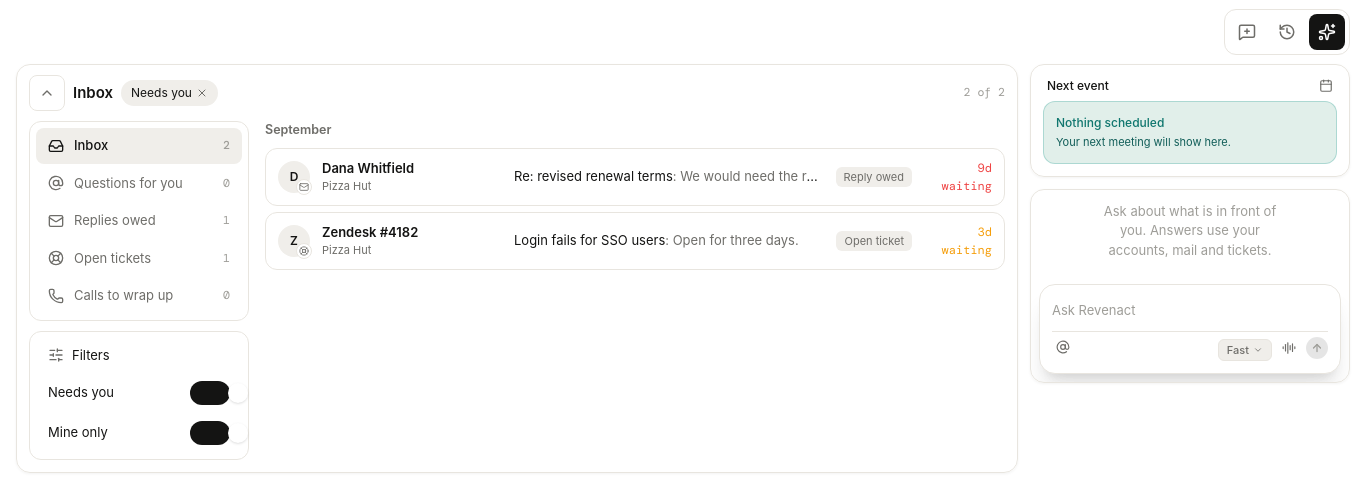
Scenario: CommunicationsPage › the Copilot rail sends a real message and can be hidden from the top bar
This screenshot has width=1366, height=490.
Type "What is waiting?" into the field with placeholder "Ask Revenact" at (1190,311), box [1052,299,1328,322]
Then press Enter
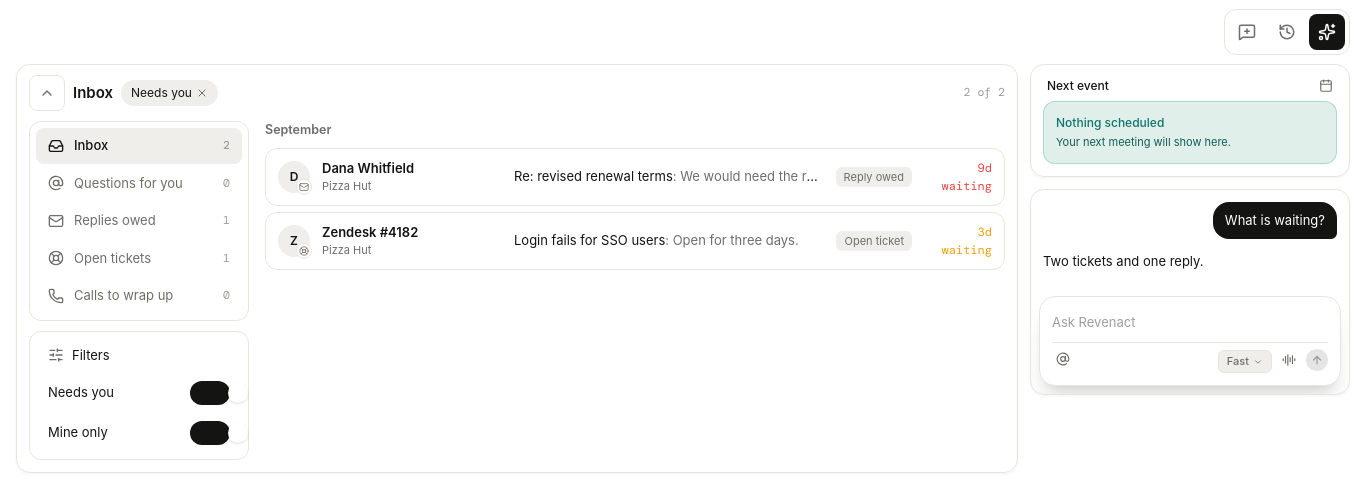
expect the text "Two tickets and one reply." is shown: met, box [1043,251,1204,272]
Click the button named "hide copilot" at (1327,32), box [1309,14,1345,50]
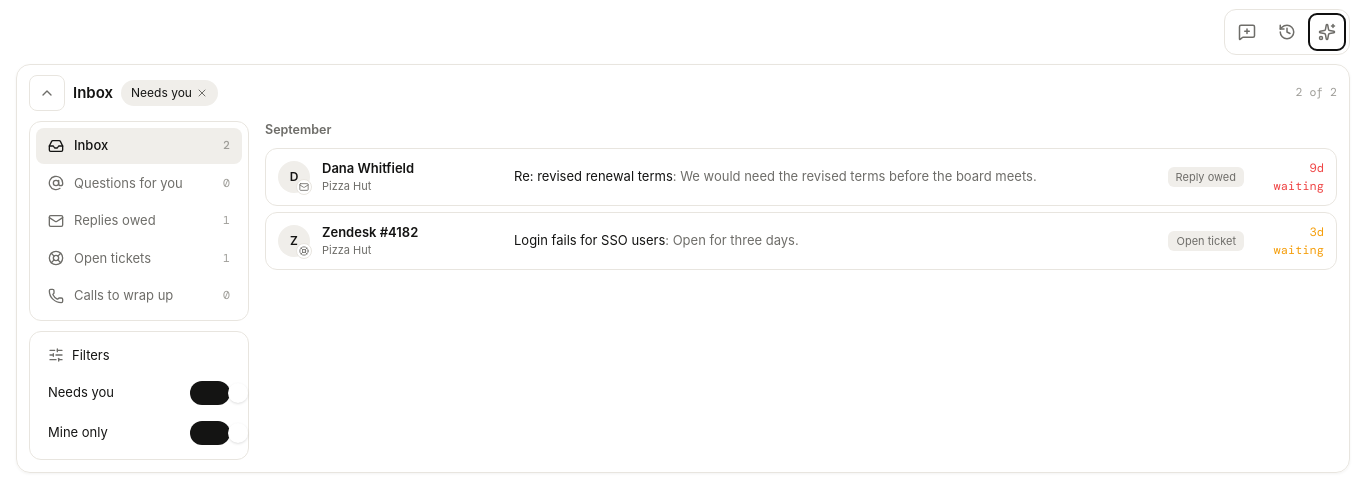
expect the element "copilot" is gone: met
